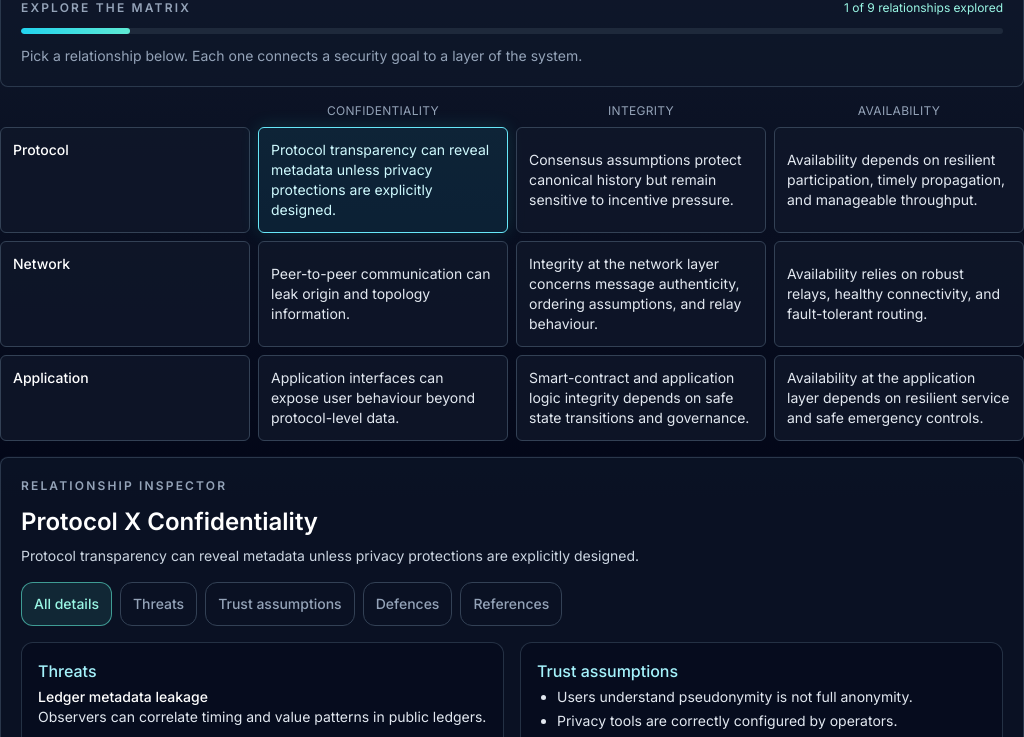
Test: framework explorer › switches details when a matrix cell is selected
This screenshot has width=1024, height=737.
What coordinates should you click on to do the following:
click the button with aria-label "select network and integrity analysis"
I would click on:
 (641, 294)
Its box is [516, 241, 766, 347].
(page scrolled)
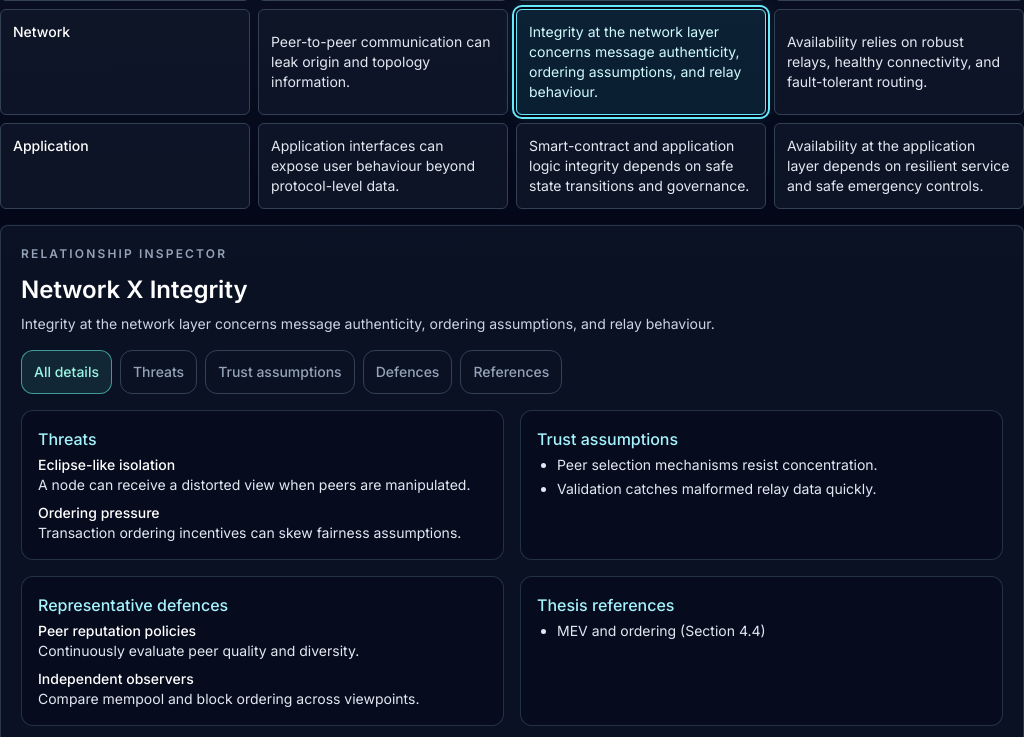
Check: the text "Ordering pressure" is shown, box [38, 504, 160, 521]
Check: the text "Peer reputation policies" is shown, box [38, 622, 196, 639]
Check: the list item "MEV and ordering (Section 4.4)" is shown, box [557, 622, 766, 639]
